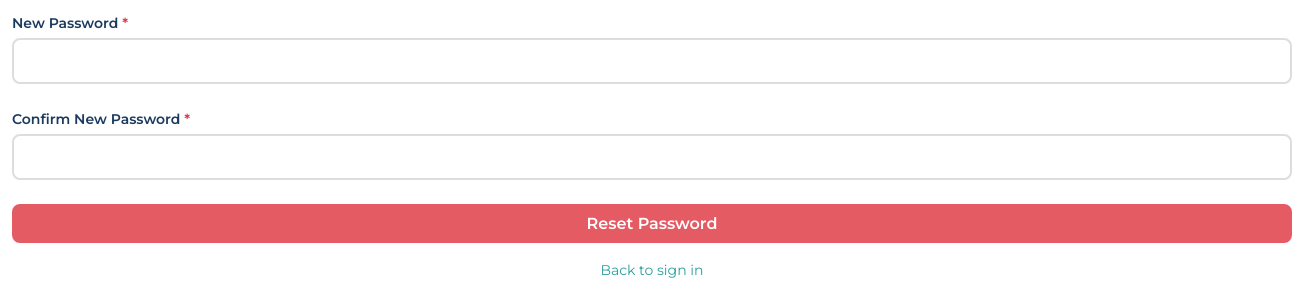
Scenario: ResetPasswordForm › submits and shows success
In the password field with id "input-new-password": {"x": 652, "y": 61} [12,38,1292,84], type "NewPass123!"
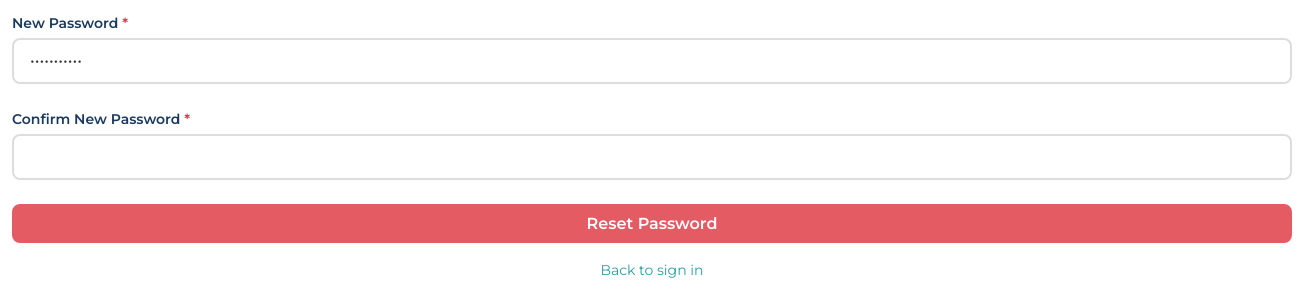
In the password field with id "input-confirm-new-password": {"x": 652, "y": 157} [12,134,1292,180], type "NewPass123!"
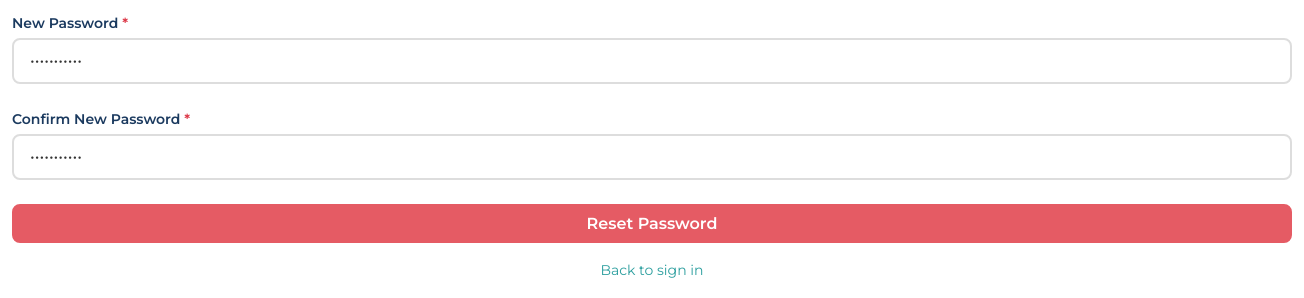
Submit the form
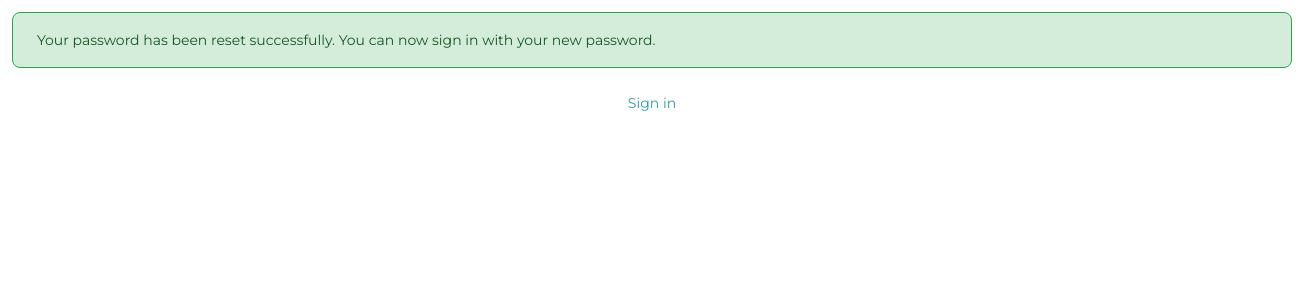
Expected: the text "password has been reset successfully" is shown, [37,31,656,49]
